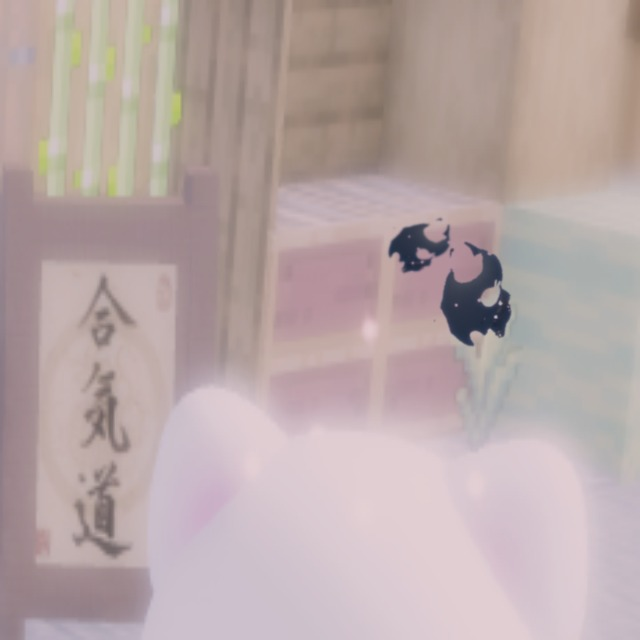urso_preto: (423, 225, 527, 366), (369, 202, 471, 288)
